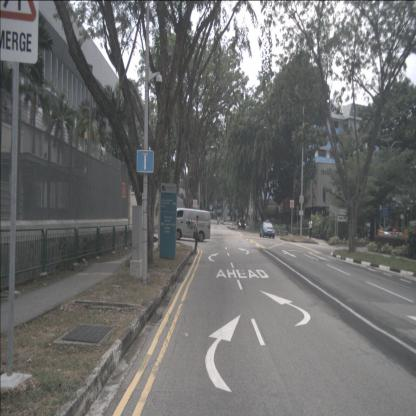human-pedestrian-adult: (193, 216, 200, 256), (308, 218, 312, 239), (216, 216, 220, 226)
vehicle-car: (170, 209, 211, 242), (260, 222, 275, 238), (237, 218, 246, 230)
